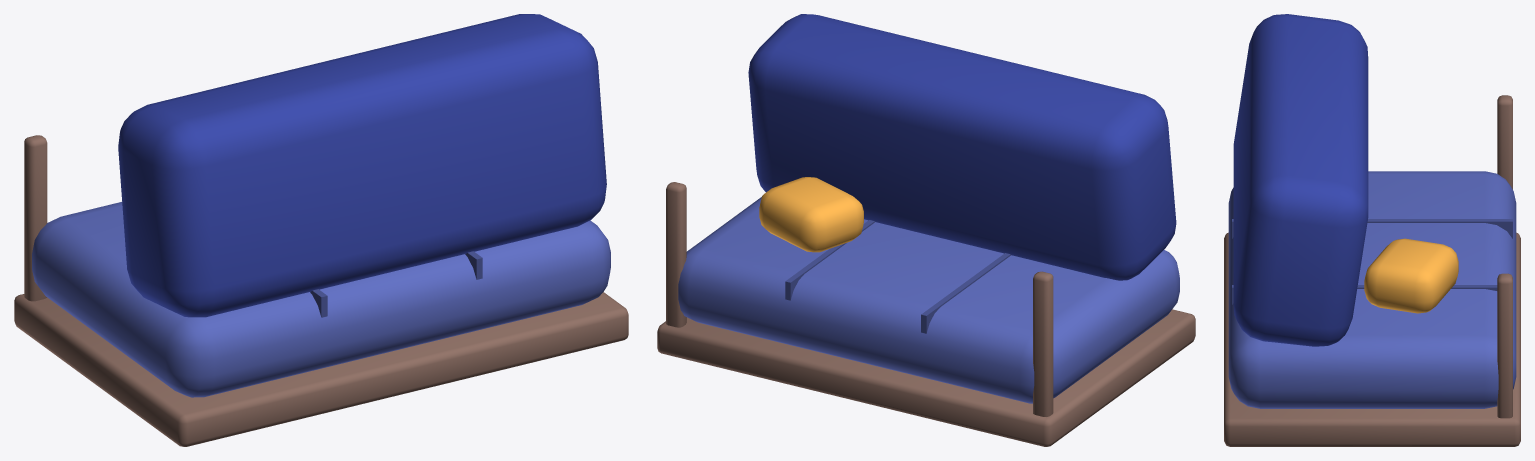
File: futon.fbx
3 views of the same model, side by side, from view 1: azimuth 30°, elevation 25°; view 2: azimuth 150°, elevation 25°; view 3: azimuth 270°, elevation 25° (orthographic). The views are drawn at different scales.
Visible parts, largest first — view 1: Futon; view 2: Futon; view 3: Futon.
Part boxes in pixels (box(x1,y1,x2,y2)): Futon: box(14, 14, 628, 446); Futon: box(657, 14, 1195, 446); Futon: box(1224, 14, 1520, 446).
Bounding box in the file's own units: 2.9 × 1.82 × 1.9.
